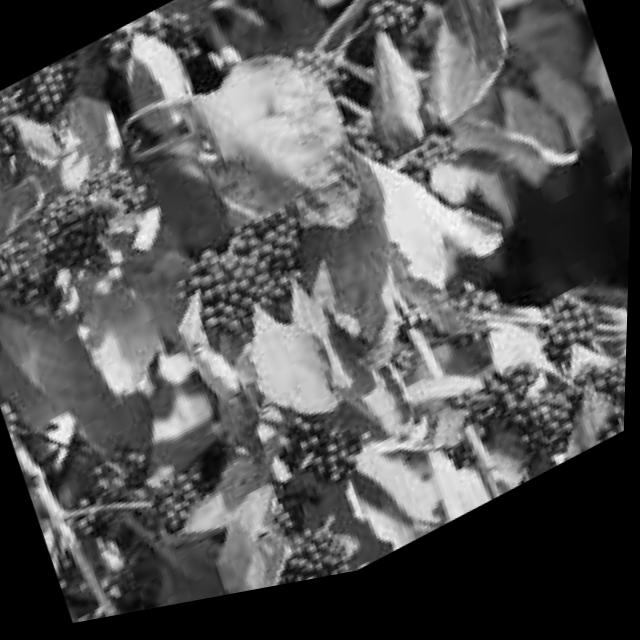Flower: (0, 139, 163, 320), (452, 343, 618, 511), (187, 201, 326, 355), (511, 293, 617, 404), (267, 499, 370, 599), (277, 33, 349, 133), (398, 139, 475, 209), (0, 88, 28, 175)
